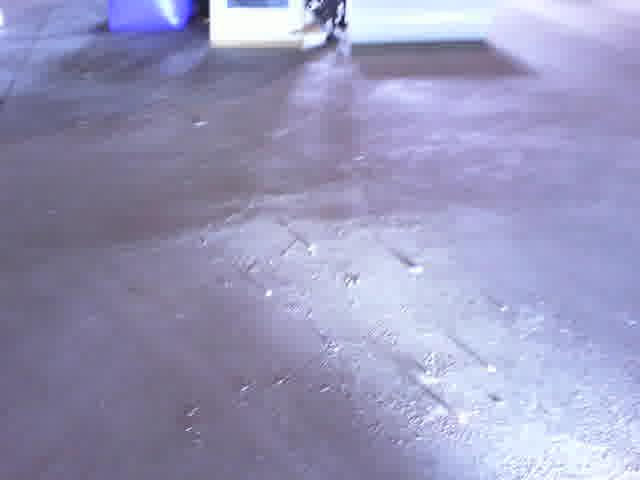coral: (337, 0, 503, 53)
